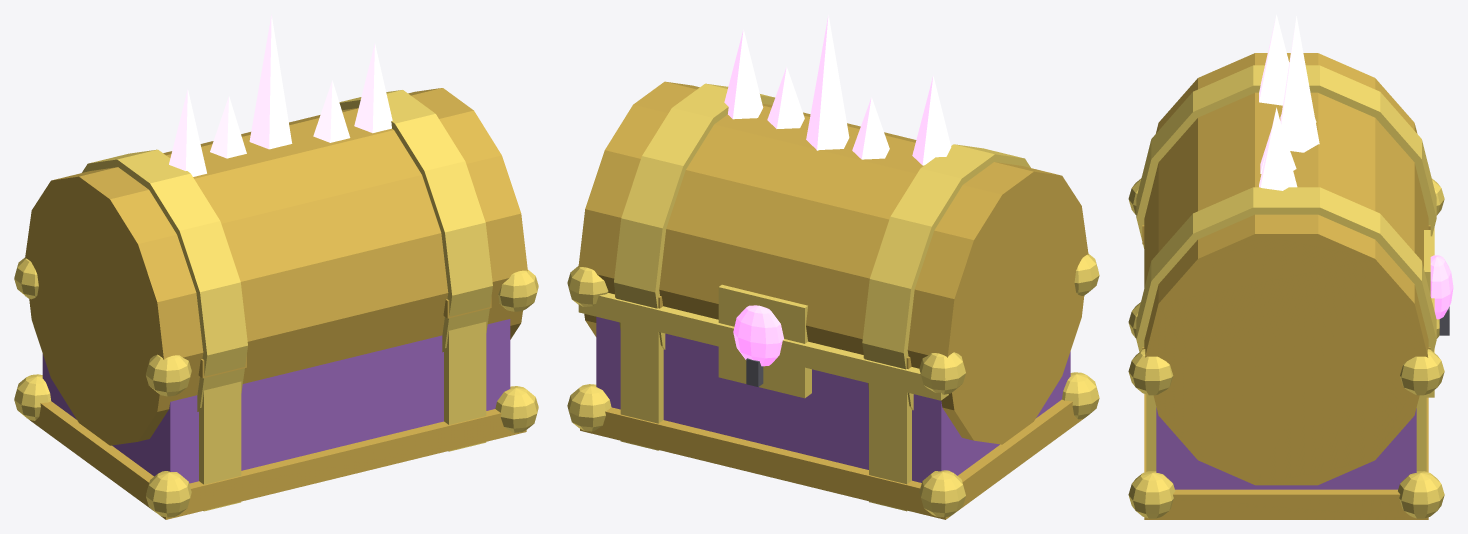
The model's file is MAGICAL.glb.
The picture shows the model from 3 angles, left to right: view 1: azimuth 30°, elevation 25°; view 2: azimuth 150°, elevation 25°; view 3: azimuth 270°, elevation 25°; orthographic projection.
Visible parts, largest first — view 1: Lid, Body; view 2: Lid, Body; view 3: Lid, Body.
Part boxes in pixels (box(x1,y1,x2,y2)): Lid: box(25, 15, 527, 445); Body: box(14, 257, 538, 519); Lid: box(578, 14, 1088, 444); Body: box(567, 253, 1099, 519); Lid: box(1136, 14, 1453, 485); Body: box(1128, 178, 1444, 519).
Size of the model in its own units: 2.5 by 2.53 by 1.79.
